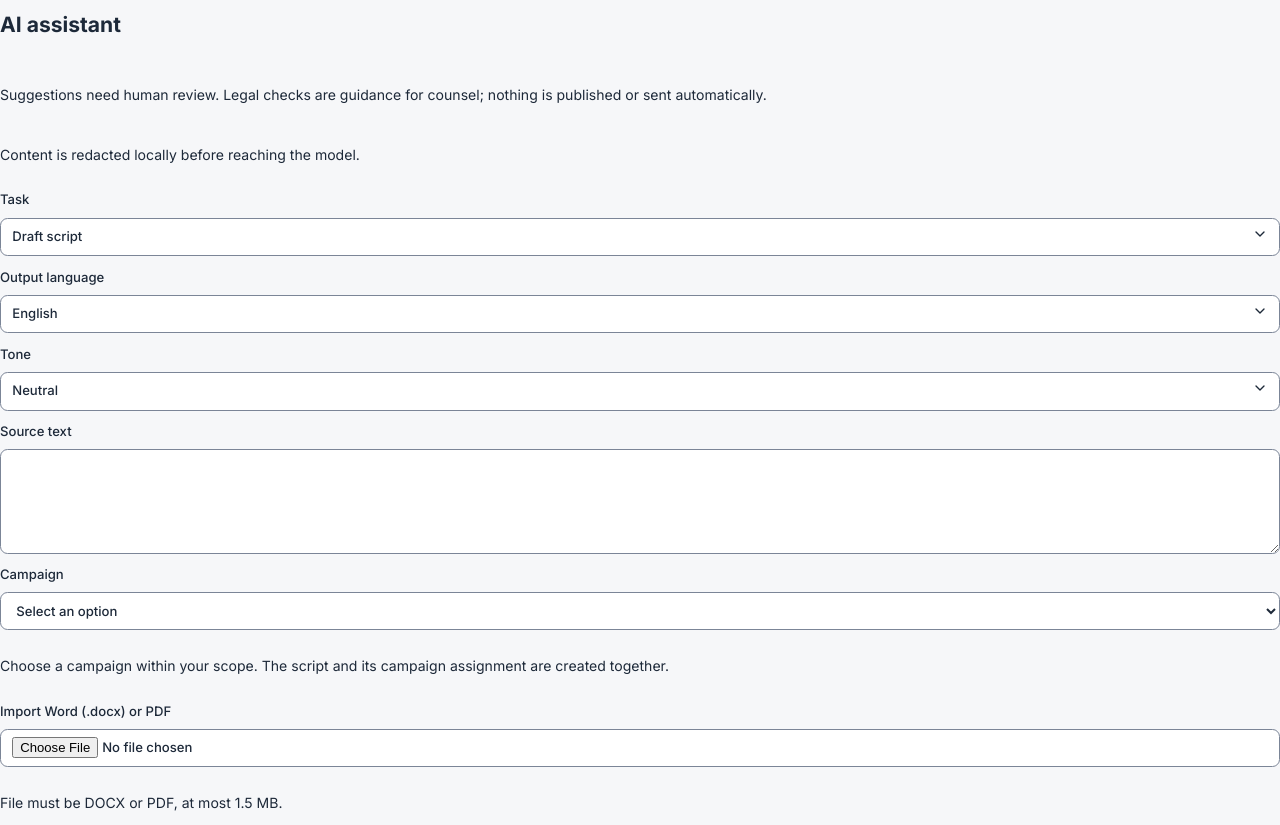
retries a failed AI version save without creating another script or changing its idempotency key
Select "Demo campaign" in the dropdown labelled "Campaign". click: point(640, 611)
box: [0,592,1279,630]
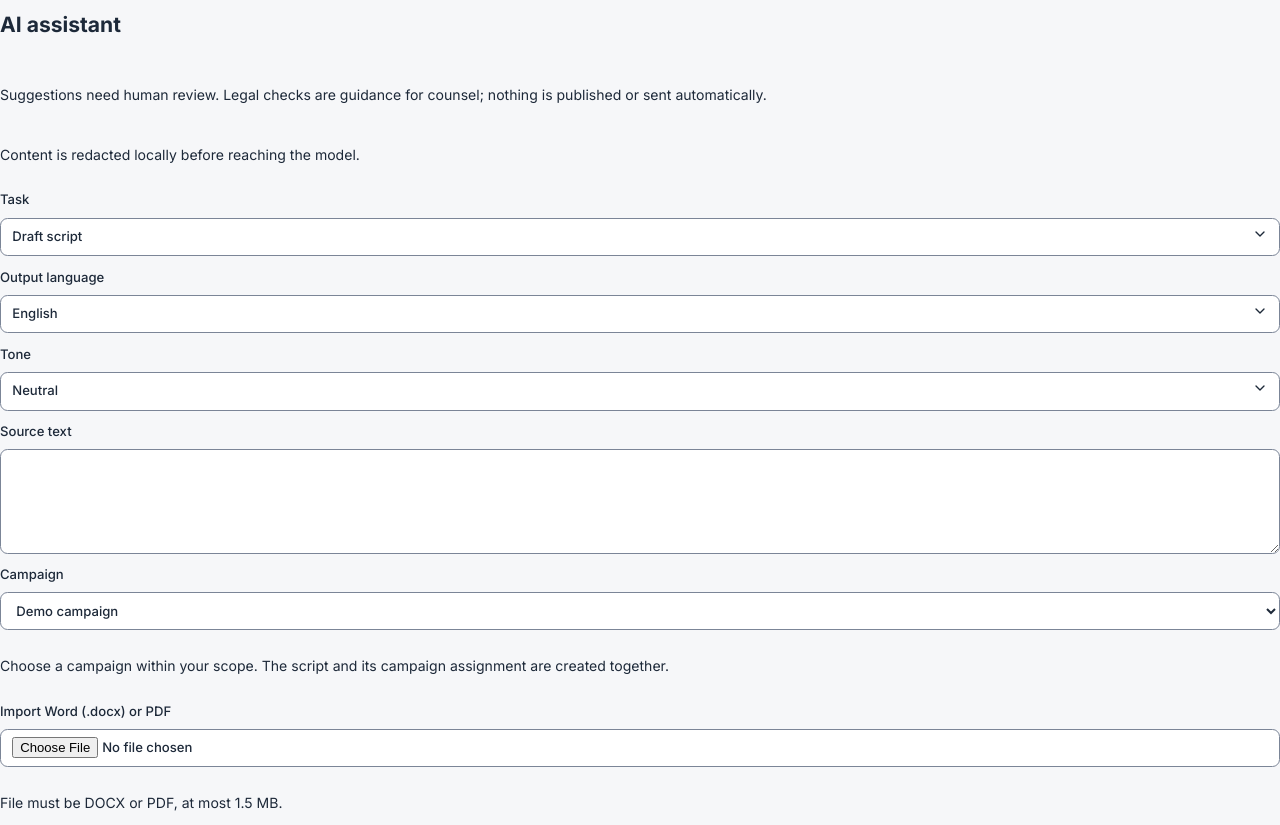
Type "Synthetic retry" into the text box labelled "Source text". click: point(640, 502)
box: [0,449,1279,554]
(page scrolled)
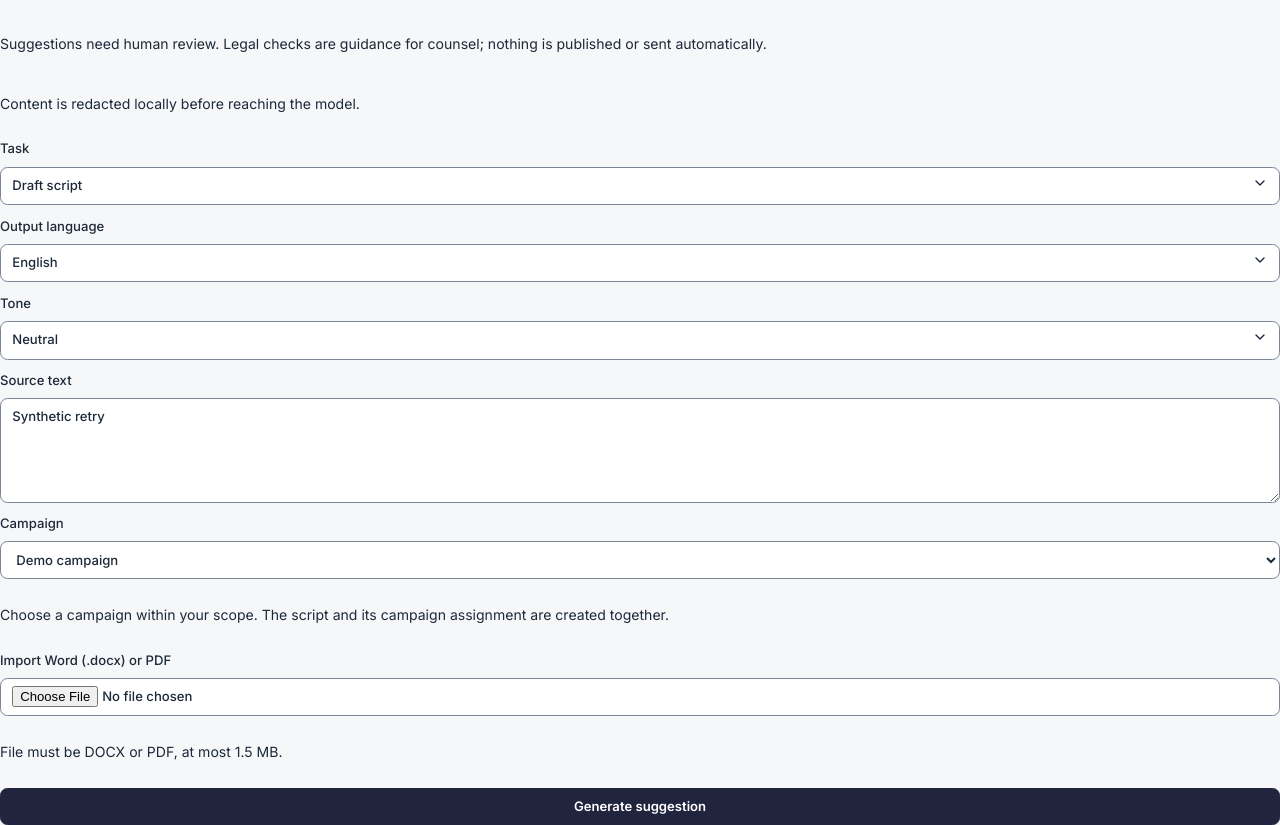
Click the button "Generate suggestion". click: point(640, 806)
box: [0,788,1279,824]
(page scrolled)
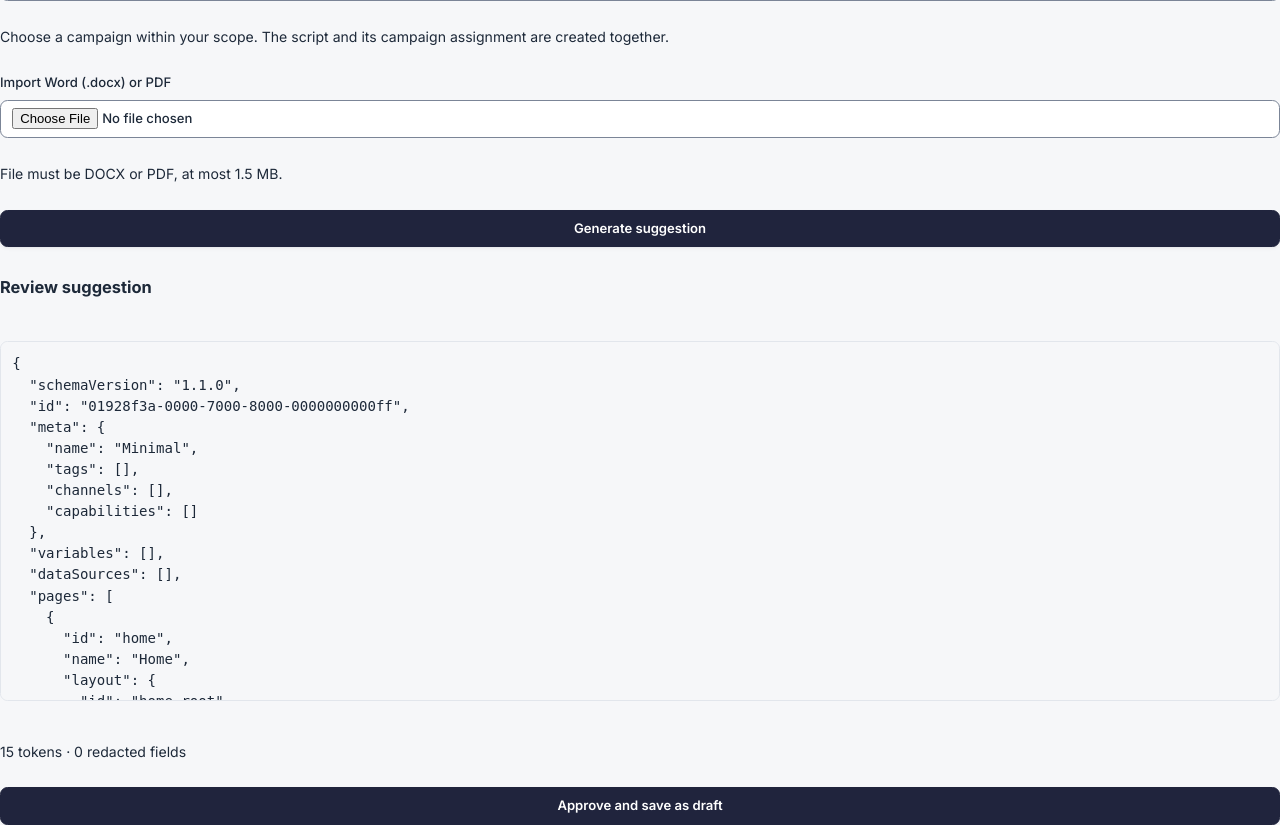
Check: the button "Approve and save as draft" is enabled
Click the button "Approve and save as draft". click: point(640, 806)
box: [0,787,1279,824]
(page scrolled)
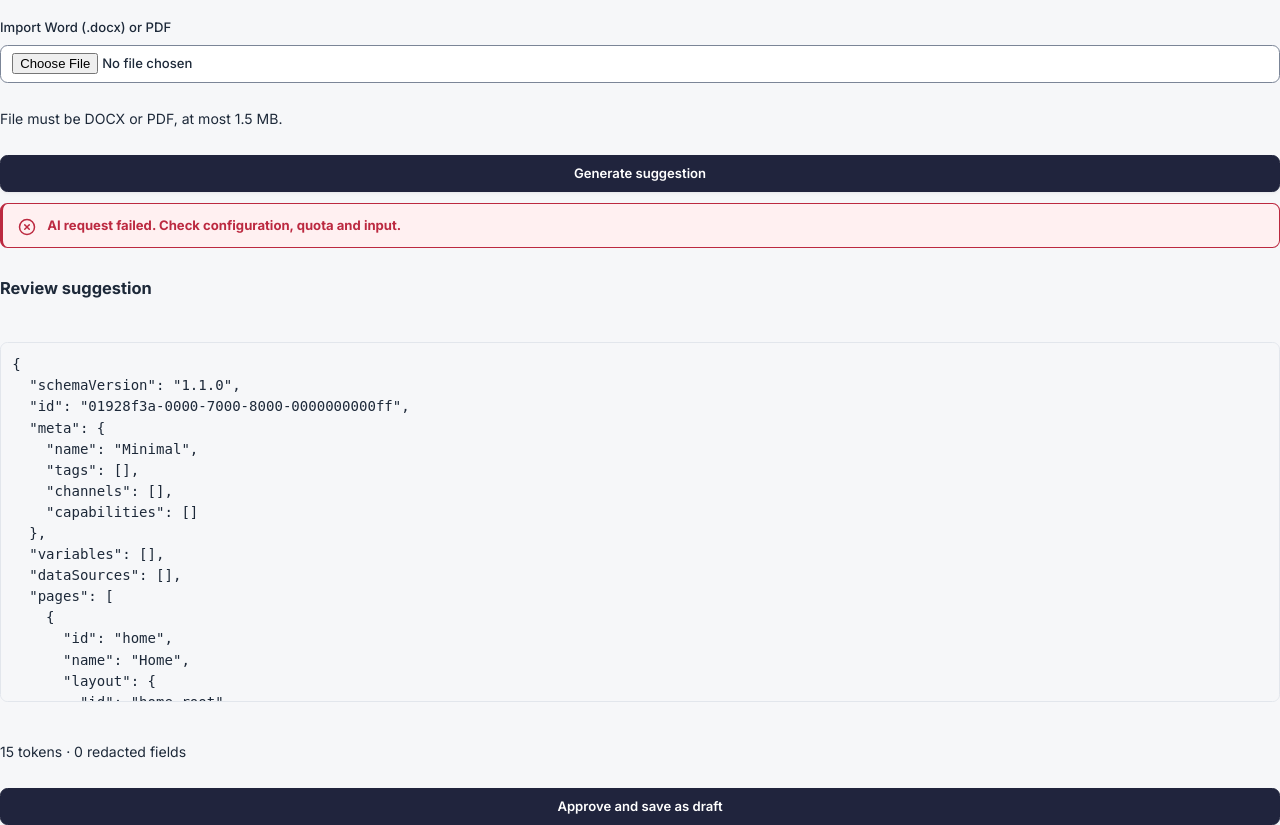
Check: the button "Approve and save as draft" is enabled
Check: the text "AI request failed. Check configuration, quota and input." is shown, box [47,217,401,233]
Click the button "Approve and save as draft". click: point(640, 807)
box: [0,788,1279,824]
(page scrolled)
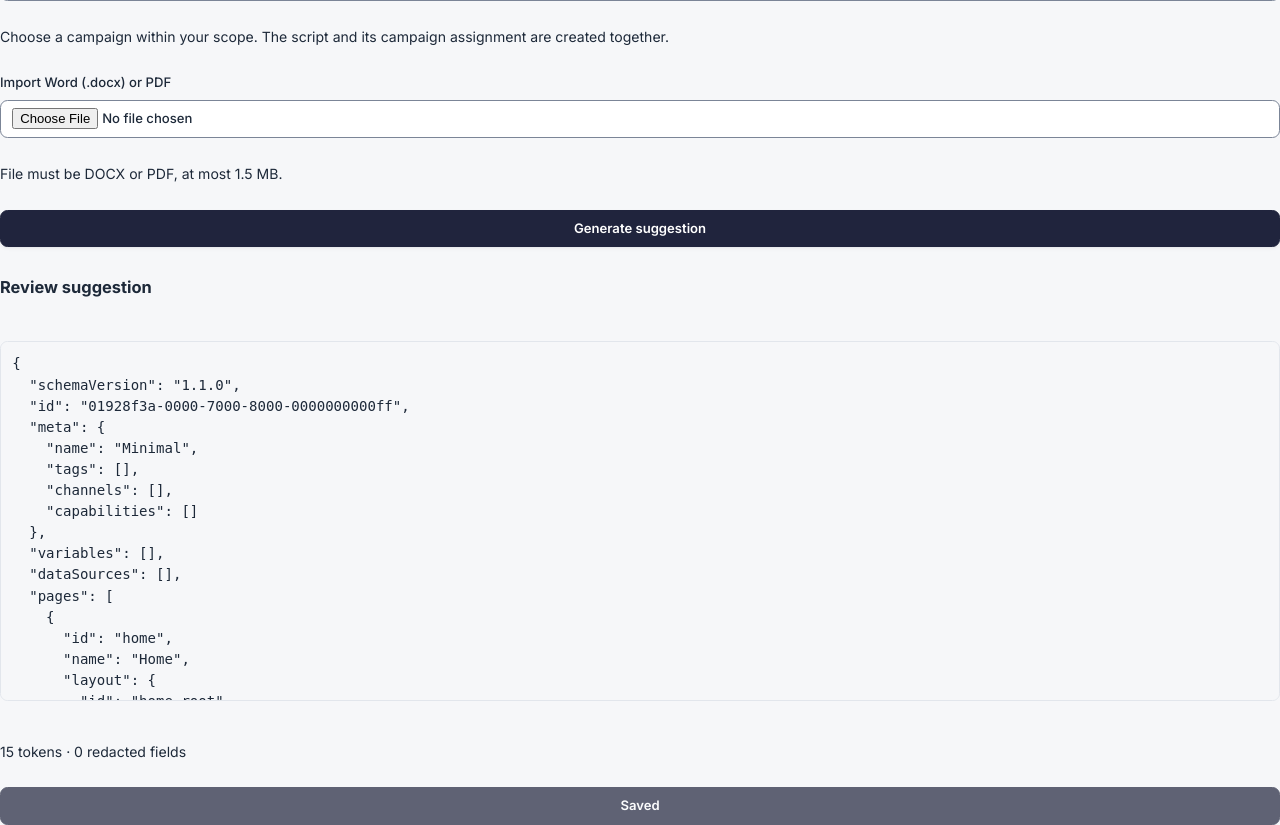
Check: the text "AI request failed. Check configuration, quota and input." is gone
